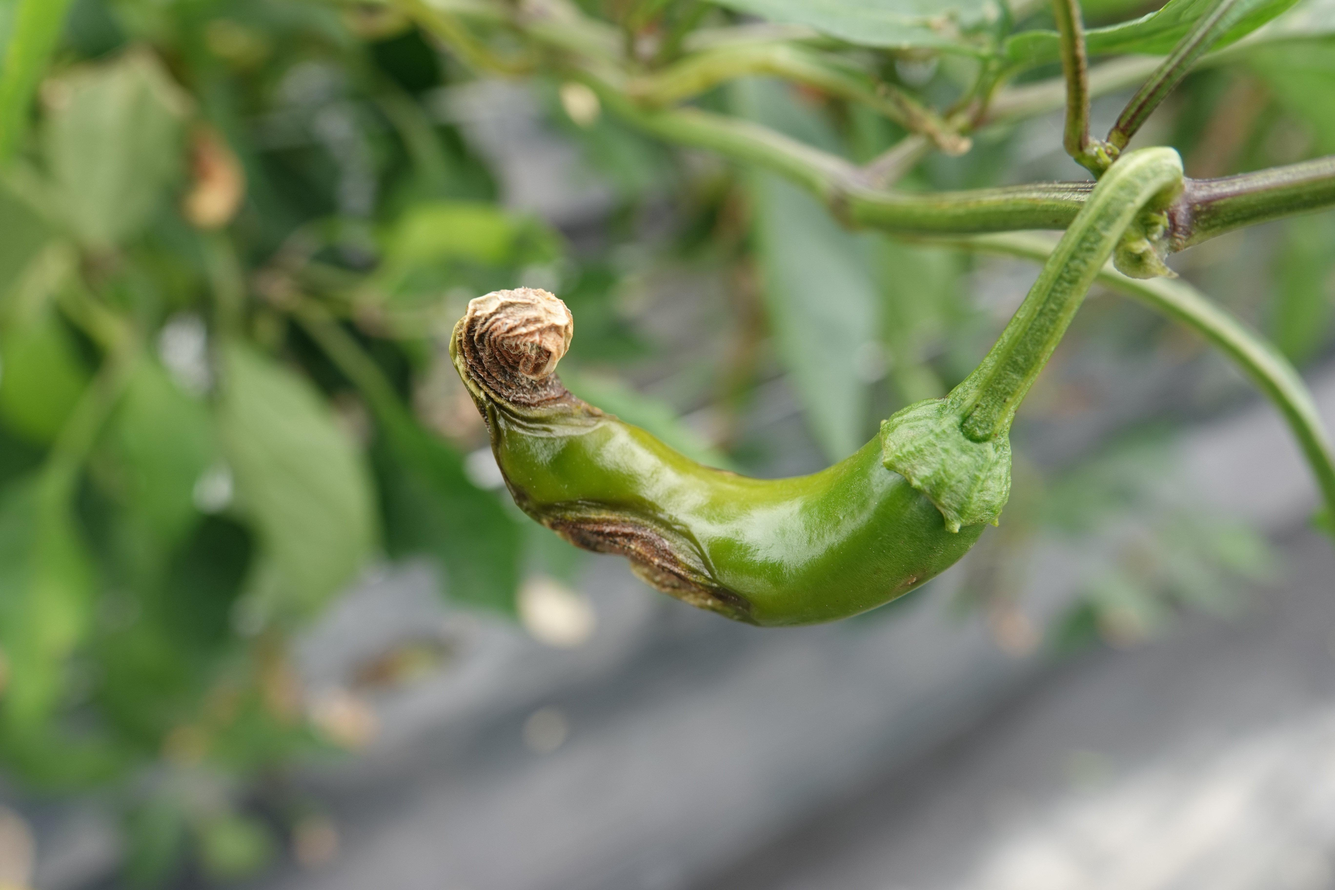Busuk Buah Antraknosa: (448, 281, 1019, 652)
